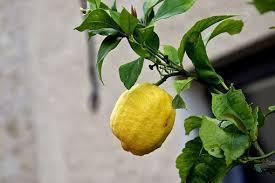lemon: (110, 82, 176, 156)
